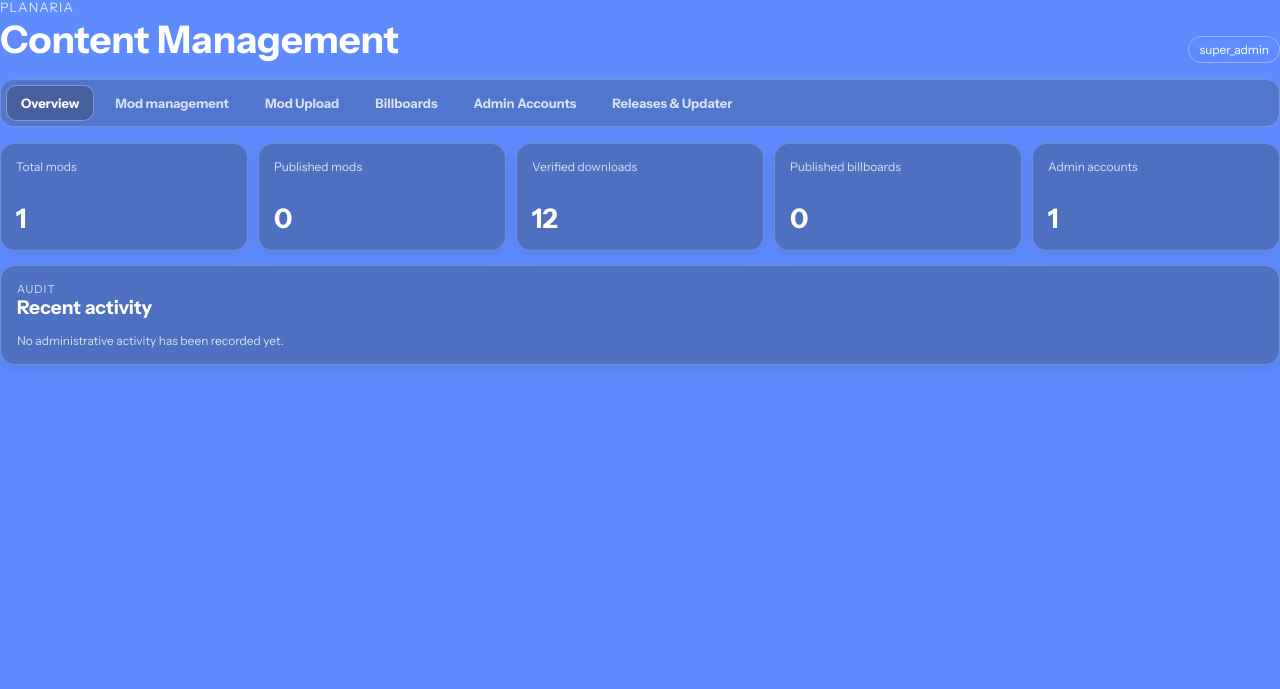
Planaria dashboard › searches the game catalog by alias and selects a safe target through the native picker
Expected: the text "Total mods" is shown, [16, 159, 77, 174]
Click the button "Mod Upload" at (302, 103), box [250, 85, 354, 121]
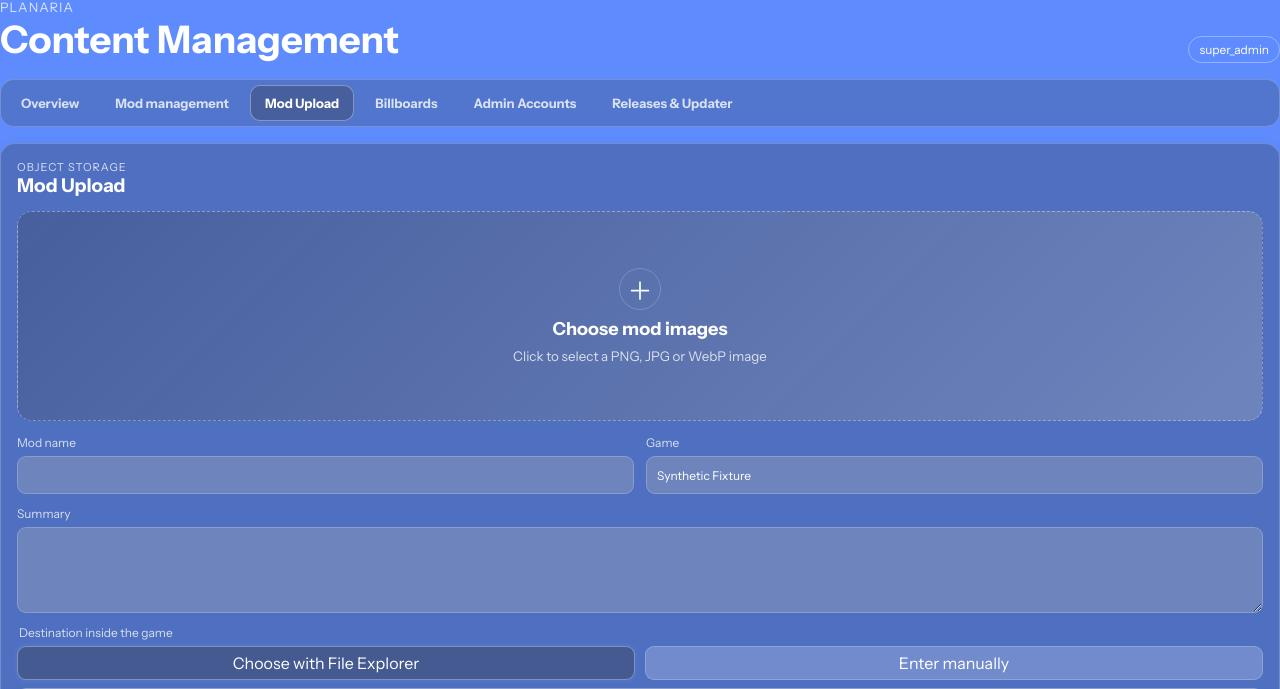
Replace the text in the dropdown labelled "Game" with "red dead" at (954, 475), box [646, 456, 1263, 494]
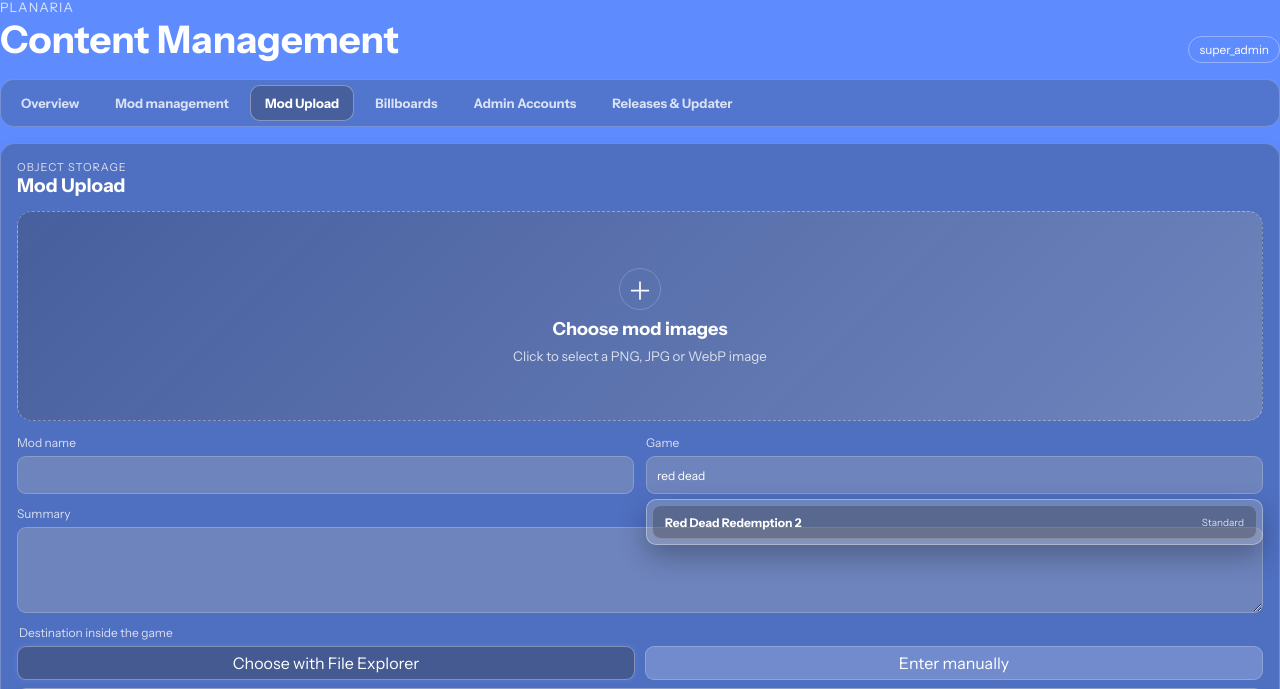
Click the option "Red Dead Redemption 2 standard" at (733, 522), box [652, 505, 1257, 539]
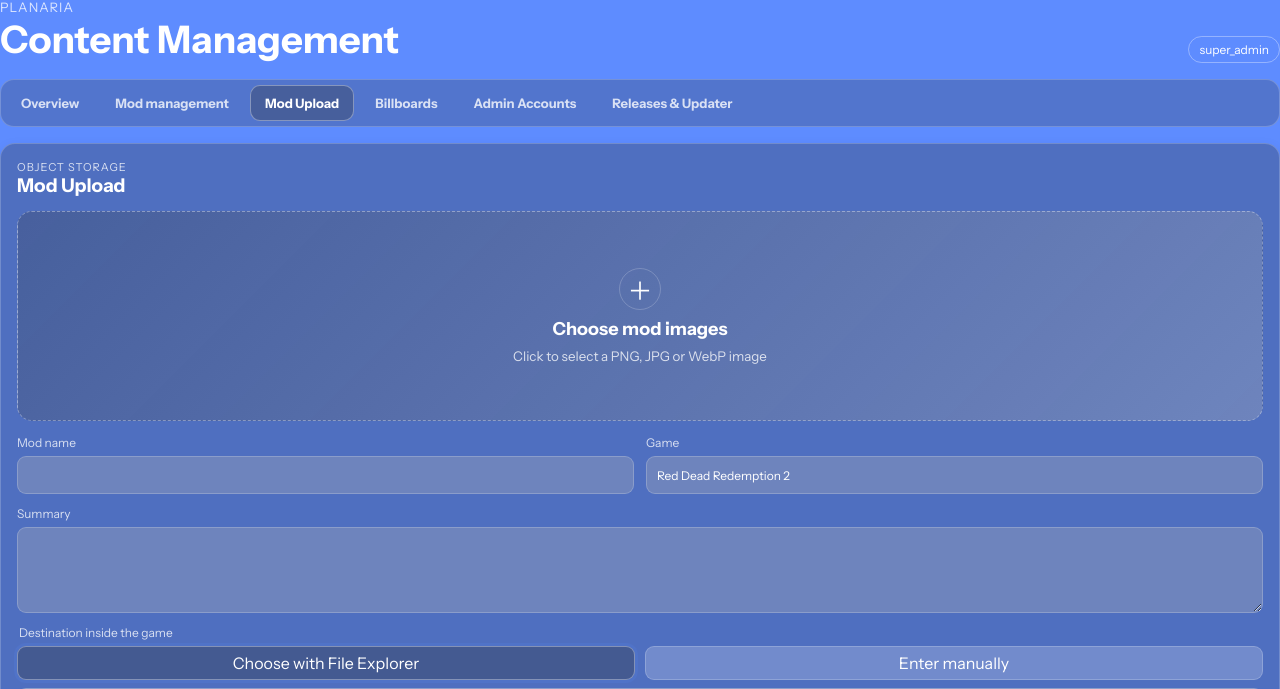
Expected: the dropdown labelled "Game" holds "Red Dead Redemption 2", [646, 456, 1263, 494]
Click the button "Choose with File Explorer" at (326, 663), box [17, 646, 635, 680]
(page scrolled)
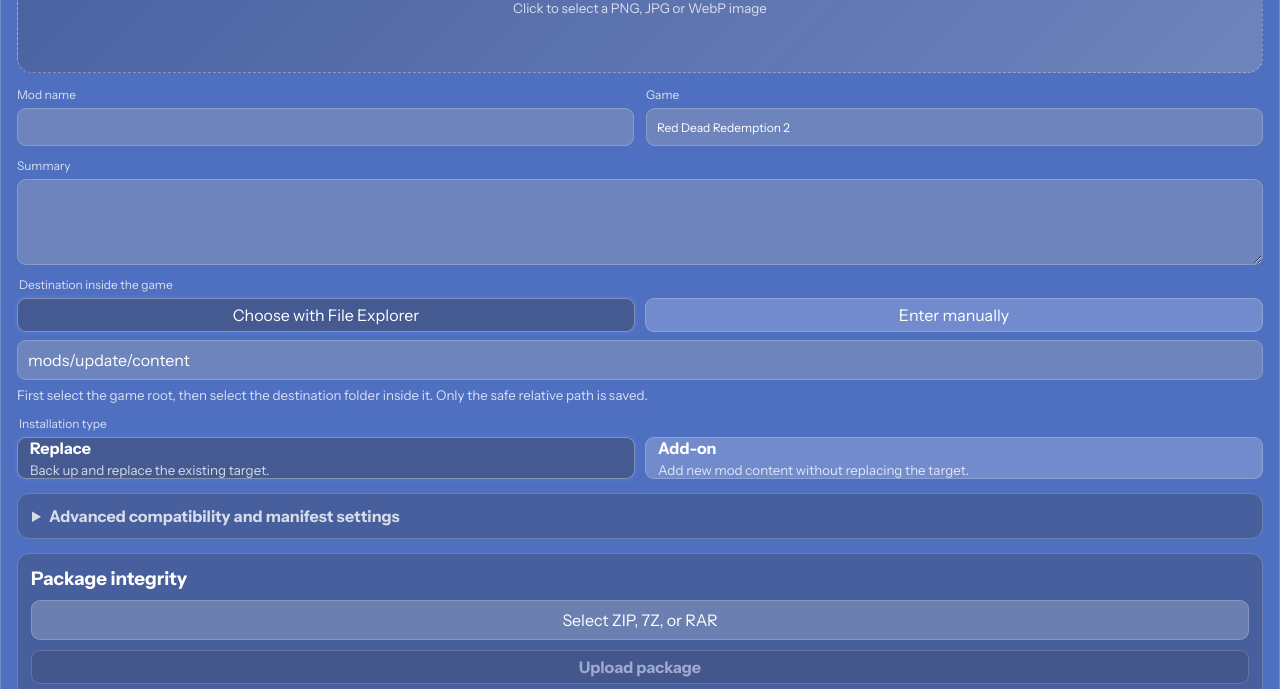
Expected: the field named "Selected relative destination path" holds "mods/update/content", [17, 340, 1263, 380]
